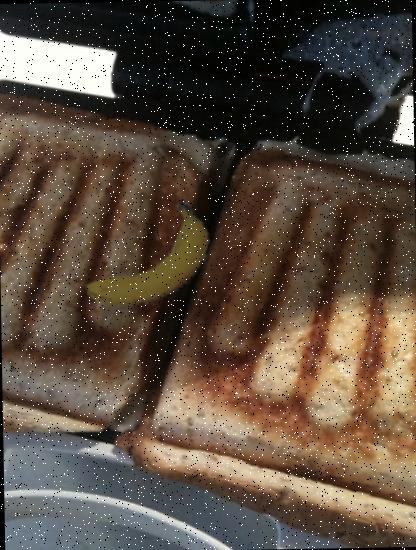Banana: (75, 189, 216, 330)
